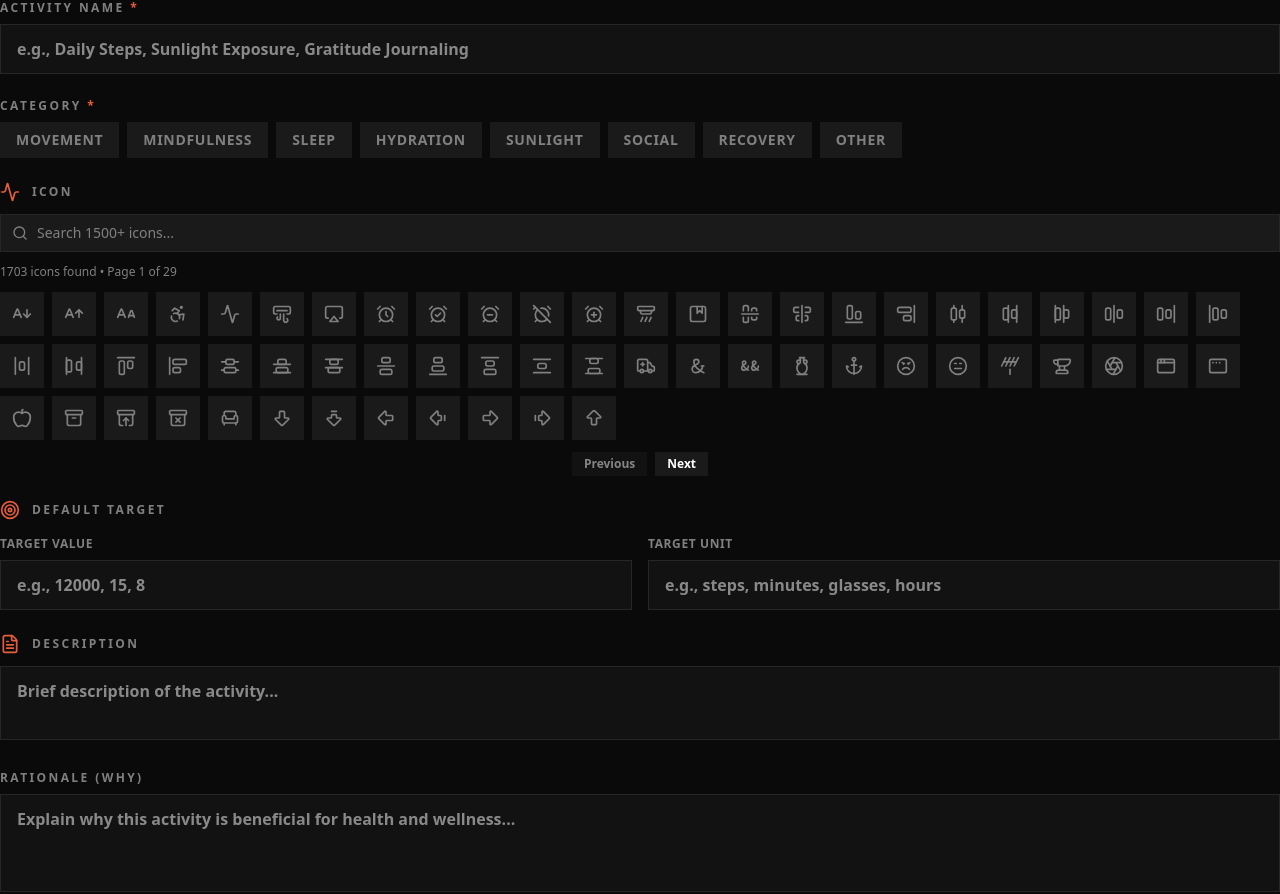
LifestyleActivityTypeForm Component › allows selecting an icon via search
// Search for sun icon
In the field with placeholder "Search 1500+ icons...": (640, 233) [0,214,1279,252], type "sun"
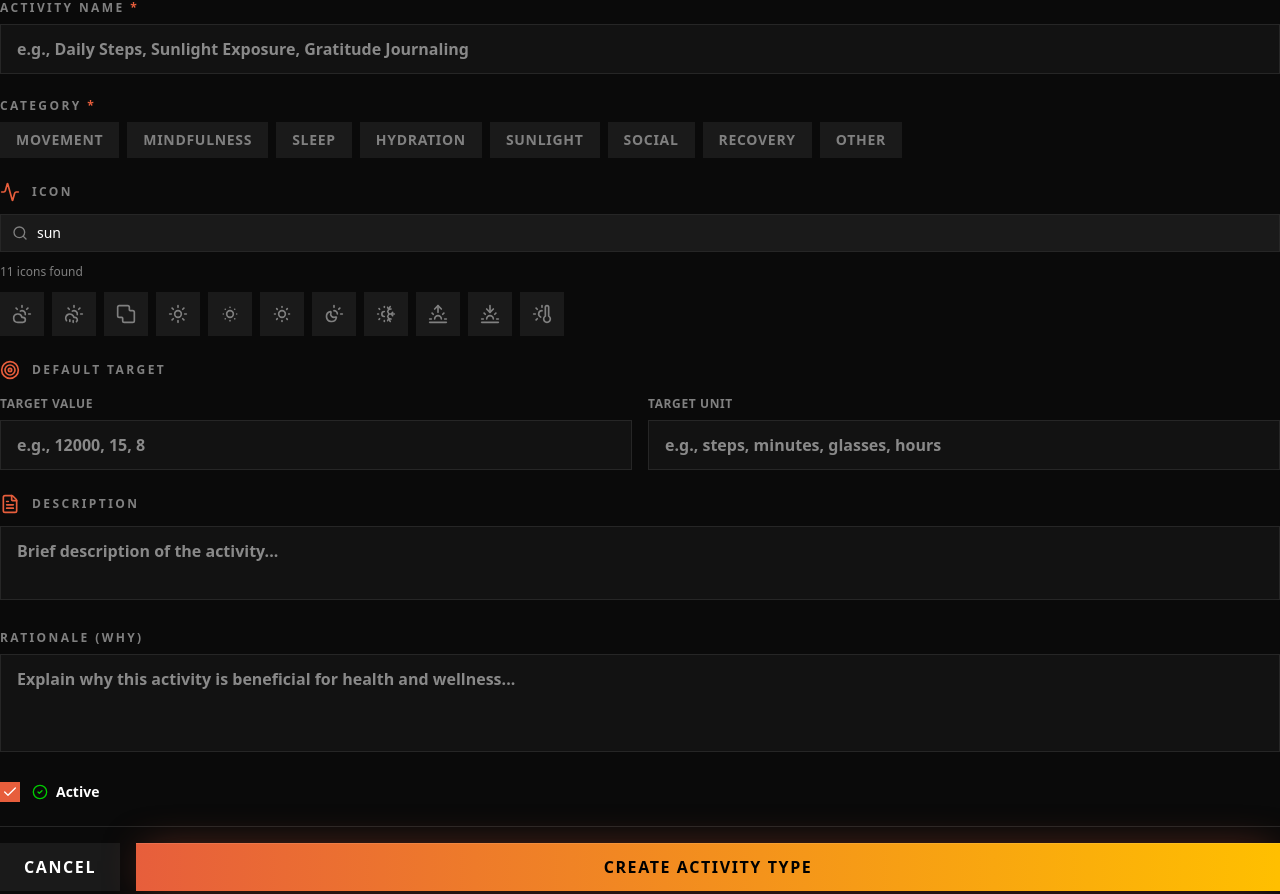
// Find and click the sun icon
Click the button named "sun": (178, 314) [156,292,200,336]
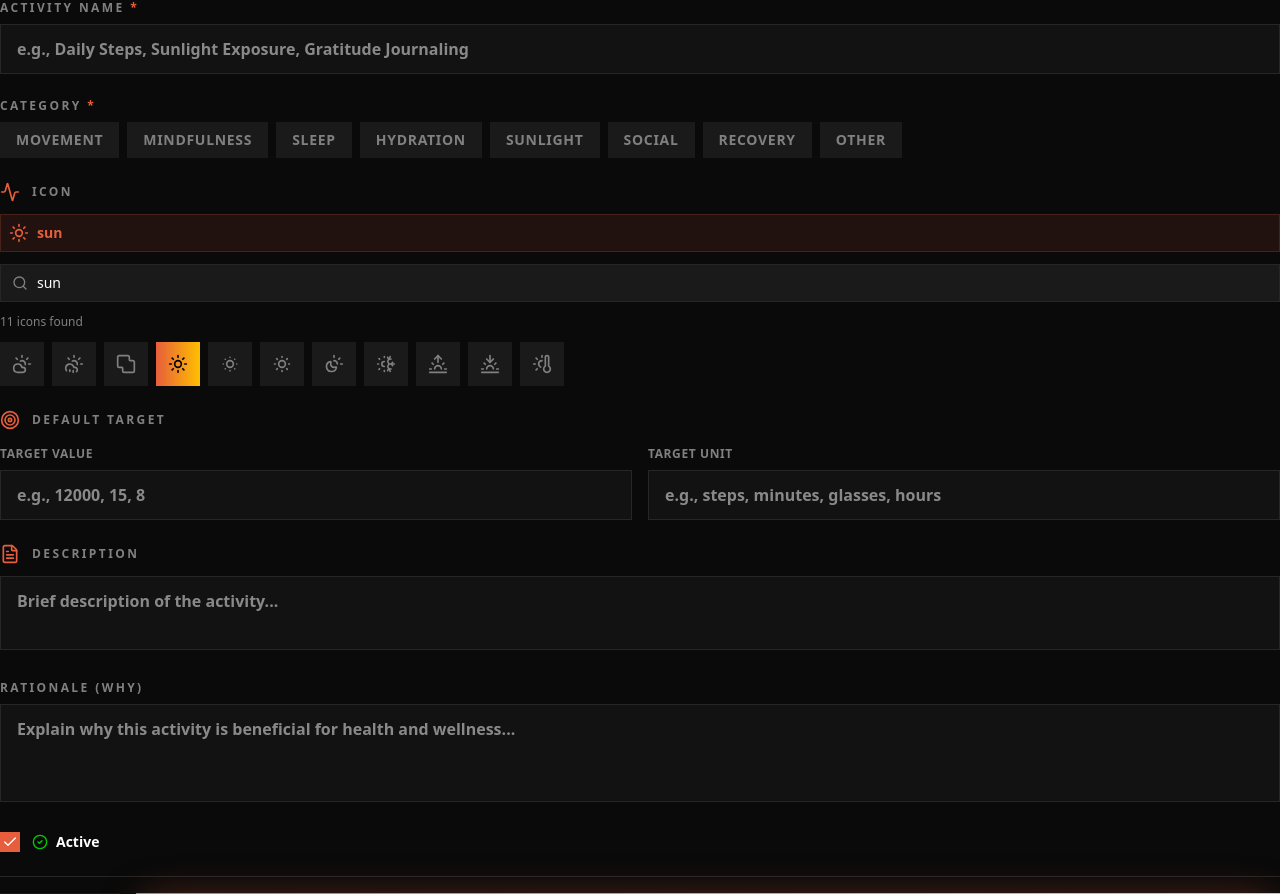
Now the text "sun" is shown, box [37,223,62,243]
